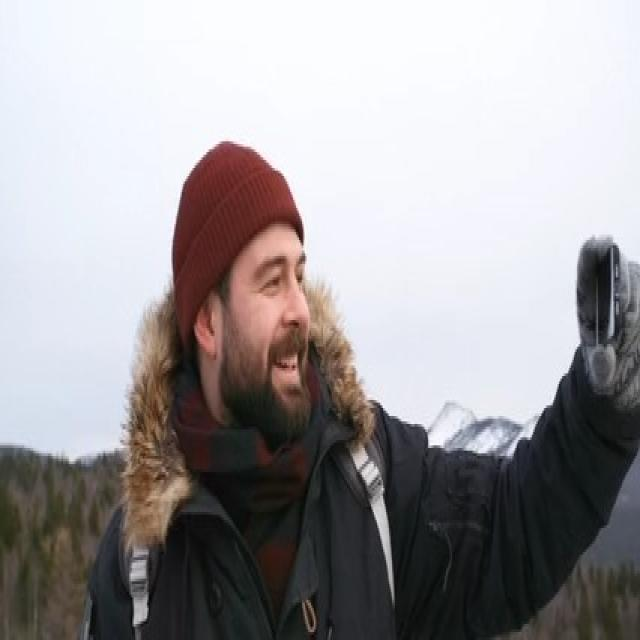Jacket_Wearer: (129, 333, 639, 640)
Person: (98, 127, 640, 640)
